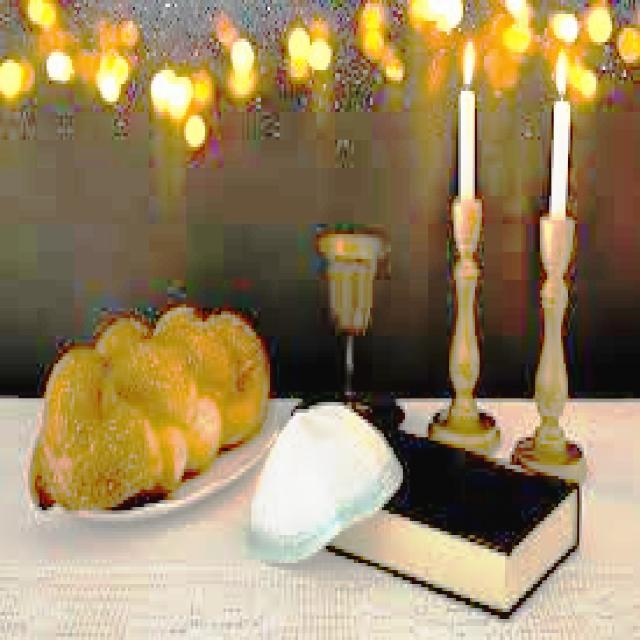api: (548, 43, 571, 102), (460, 36, 474, 85)
